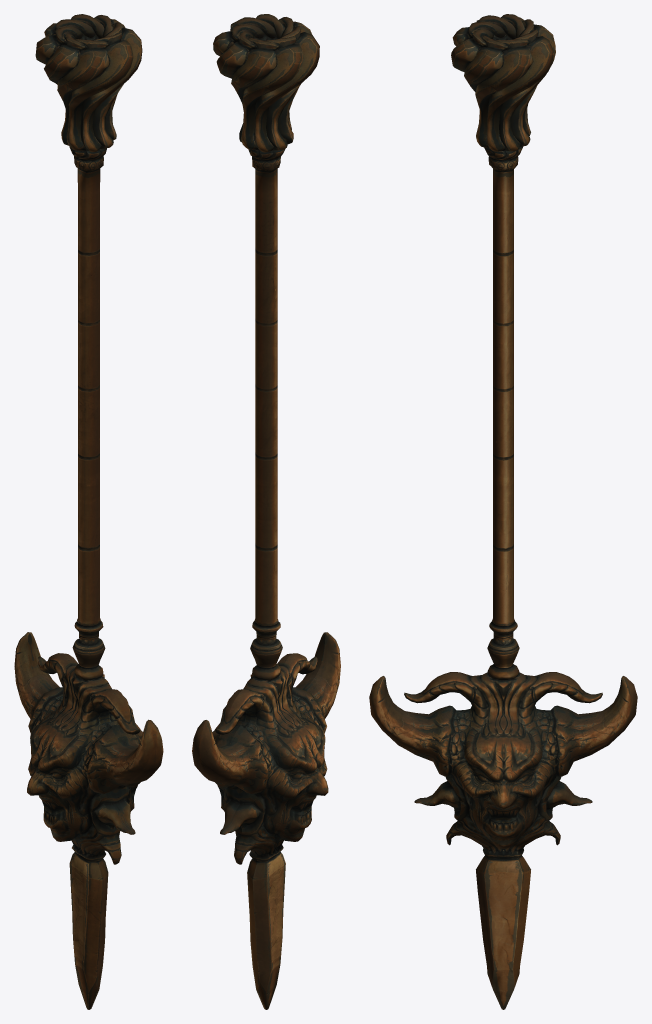
File: SoulSpear.fbx
3 renders of one model, left to right at view 1: azimuth 30°, elevation 25°; view 2: azimuth 150°, elevation 25°; view 3: azimuth 270°, elevation 25°, orthographic.
Visible parts, largest first — view 1: SoulSpear; view 2: SoulSpear; view 3: SoulSpear.
Part boxes in pixels (left/top/right/bottom): SoulSpear: left=14, top=14, right=163, bottom=1009; SoulSpear: left=192, top=14, right=340, bottom=1009; SoulSpear: left=369, top=14, right=637, bottom=1009.
Size of the model in its own units: 2.06 by 1.1 by 8.31.
